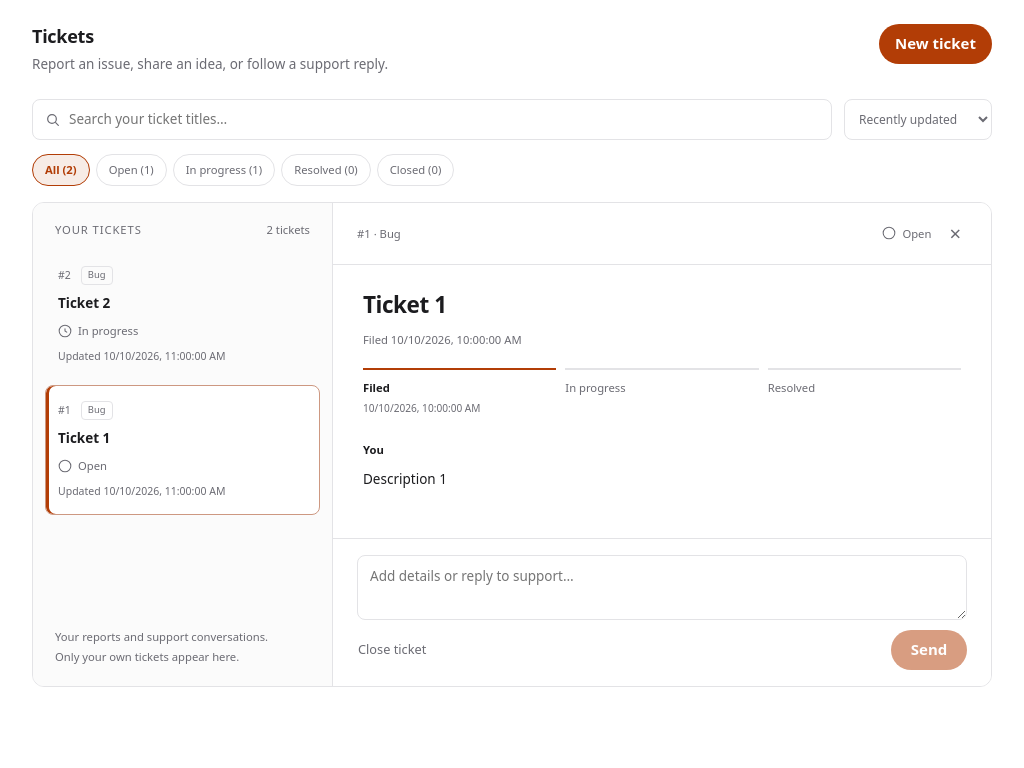
Test: TicketsView › keeps the conversation and reply draft while filtering or polling the list
Type "More context" into the text box named "Reply" at coordinates (662, 587), box [357,554,967,620]
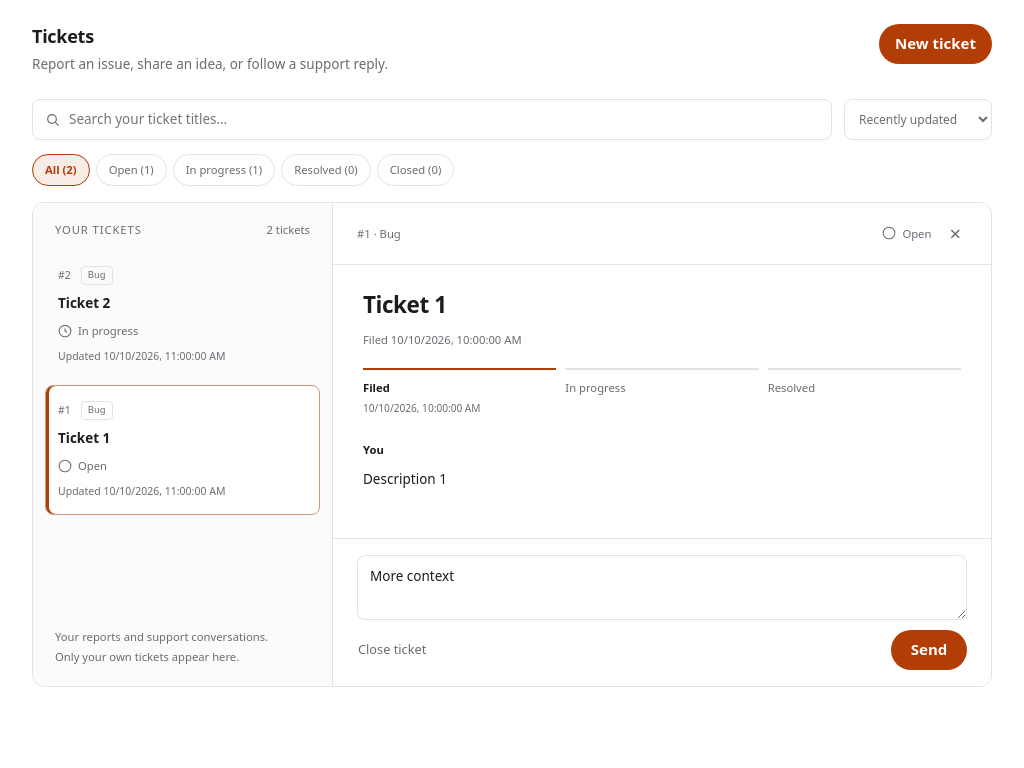
Type "no match" into the search field named "Search ticket titles" at coordinates (444, 120), box [69,109,819,130]
Wait 30000 ms
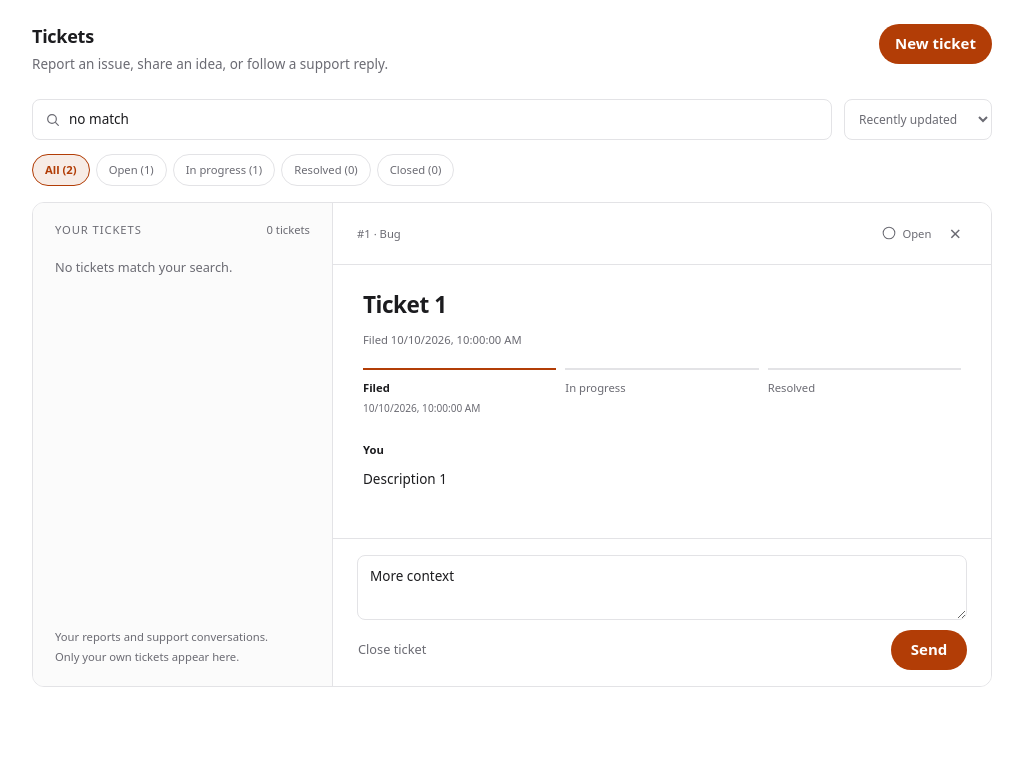
Expected: the heading with class "detail-title" reads "Ticket 1", [363,289,447,320]
Expected: no buttons with class "ticket-row" are shown
